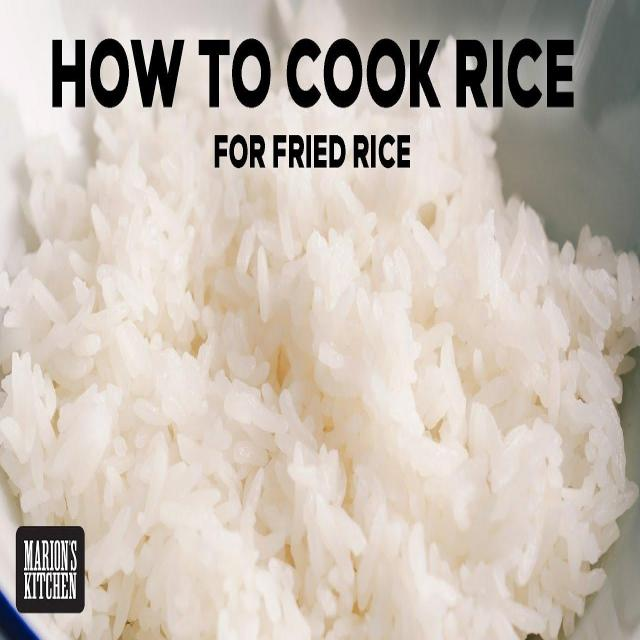rice: (0, 119, 640, 639)
